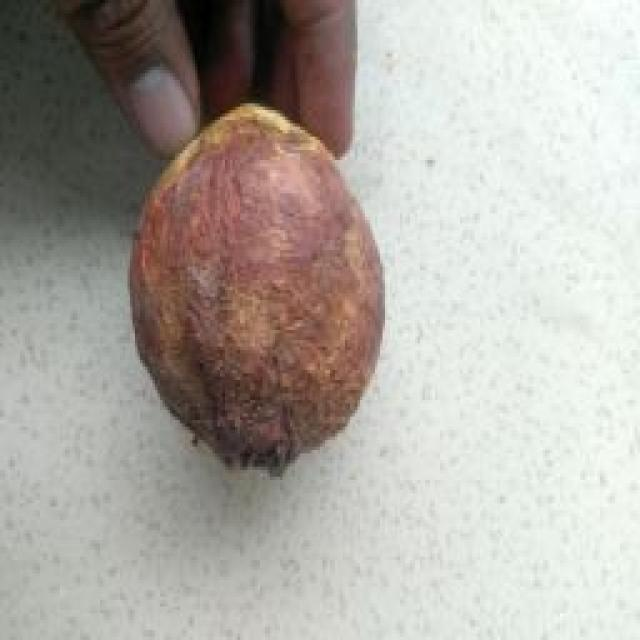Bad_Guava: (131, 103, 384, 471)
